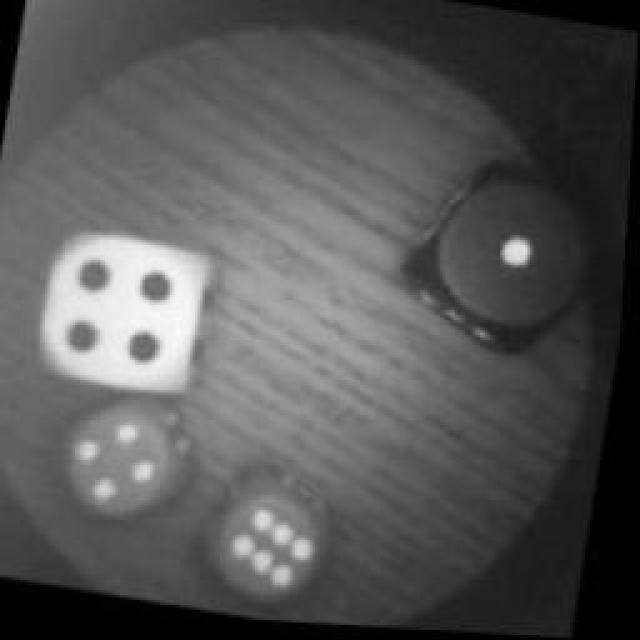dice_1: (395, 150, 615, 365)
dice_4: (20, 212, 240, 422), (46, 384, 209, 541)
dice_6: (197, 462, 355, 622)
